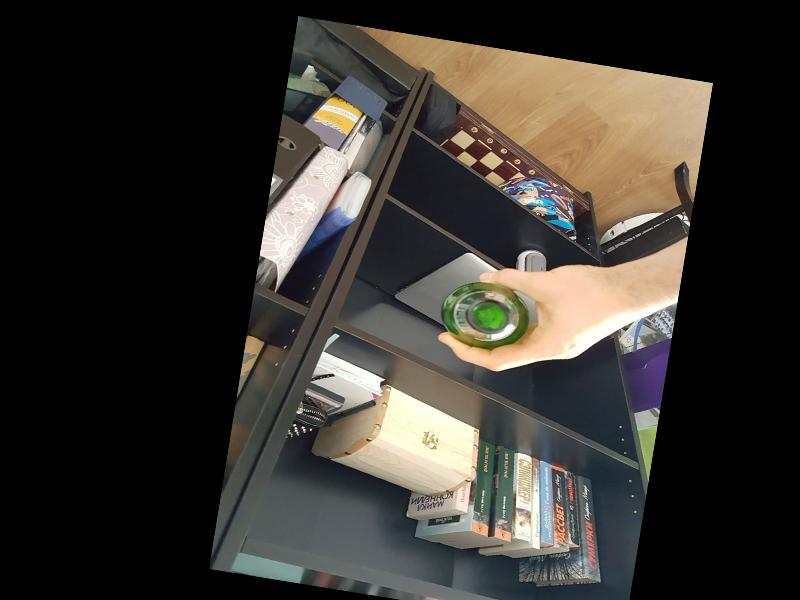Beer: (441, 275, 532, 354)
